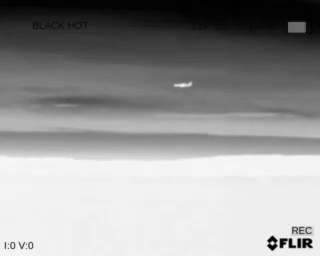AIRPLANE: (172, 78, 194, 91)
